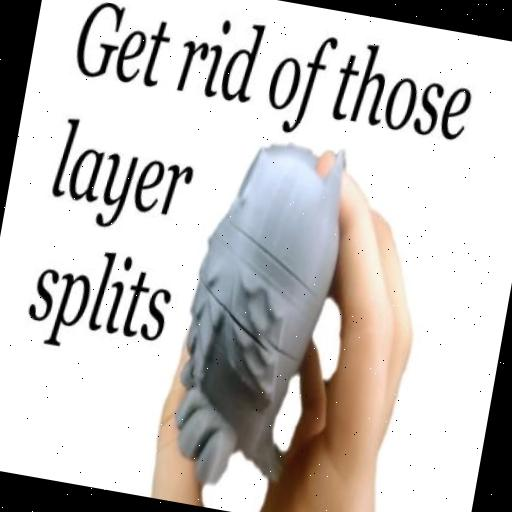cracks: (175, 259, 299, 376)
